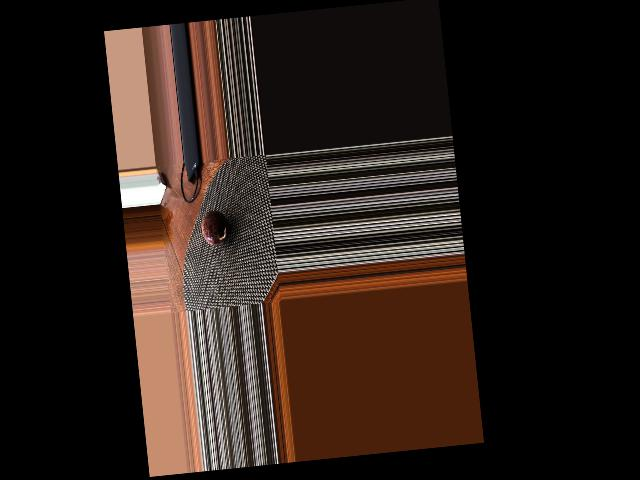beet: (200, 209, 229, 245)
